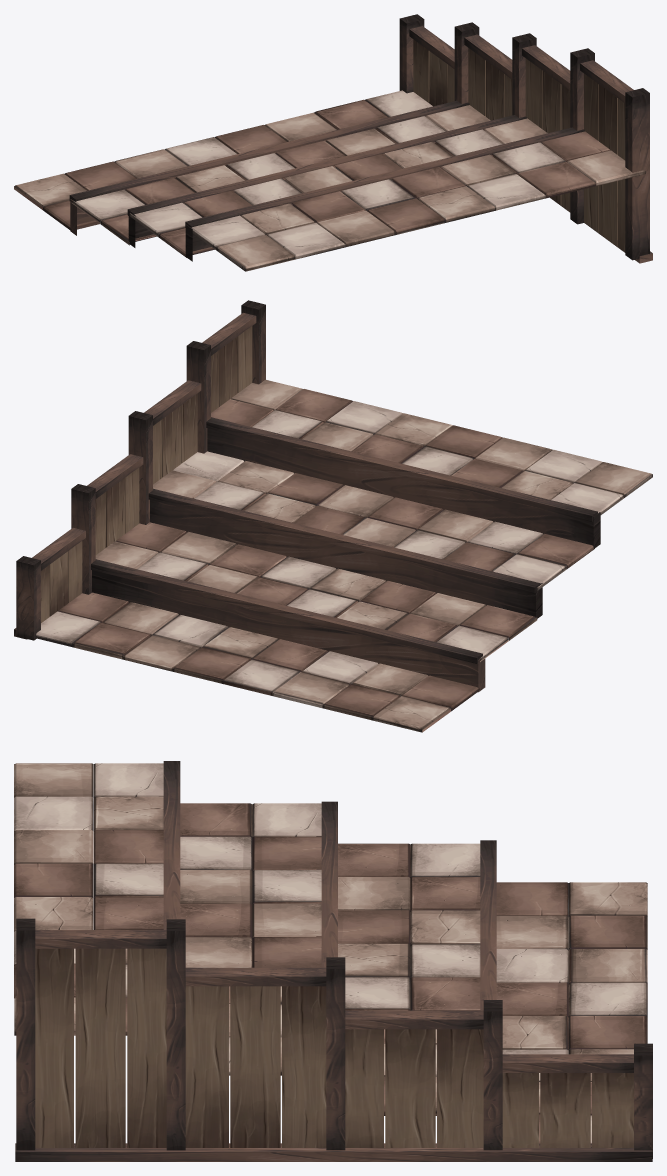
The model's file is Floor_3_Steps_Straight_Walled_Half.fbx.
3 views of the same model, one above another, from view 1: azimuth 30°, elevation 25°; view 2: azimuth 150°, elevation 25°; view 3: azimuth 270°, elevation 25° (orthographic). The views are drawn at different scales.
Parts seen in each view (by area): view 1: Floor_Stairs_3_Steps, Stair_Wood_Wall18; view 2: Floor_Stairs_3_Steps, Stair_Wood_Wall18; view 3: Stair_Wood_Wall18, Floor_Stairs_3_Steps.
Part boxes in pixels (x1,y1,x2,y2): Floor_Stairs_3_Steps: (14, 90, 645, 271); Stair_Wood_Wall18: (399, 14, 652, 263); Floor_Stairs_3_Steps: (36, 379, 652, 732); Stair_Wood_Wall18: (14, 300, 265, 640); Stair_Wood_Wall18: (15, 918, 652, 1161); Floor_Stairs_3_Steps: (14, 761, 647, 1143).
Size of the model in its own units: 0.6111 by 0.24 by 0.6055.
